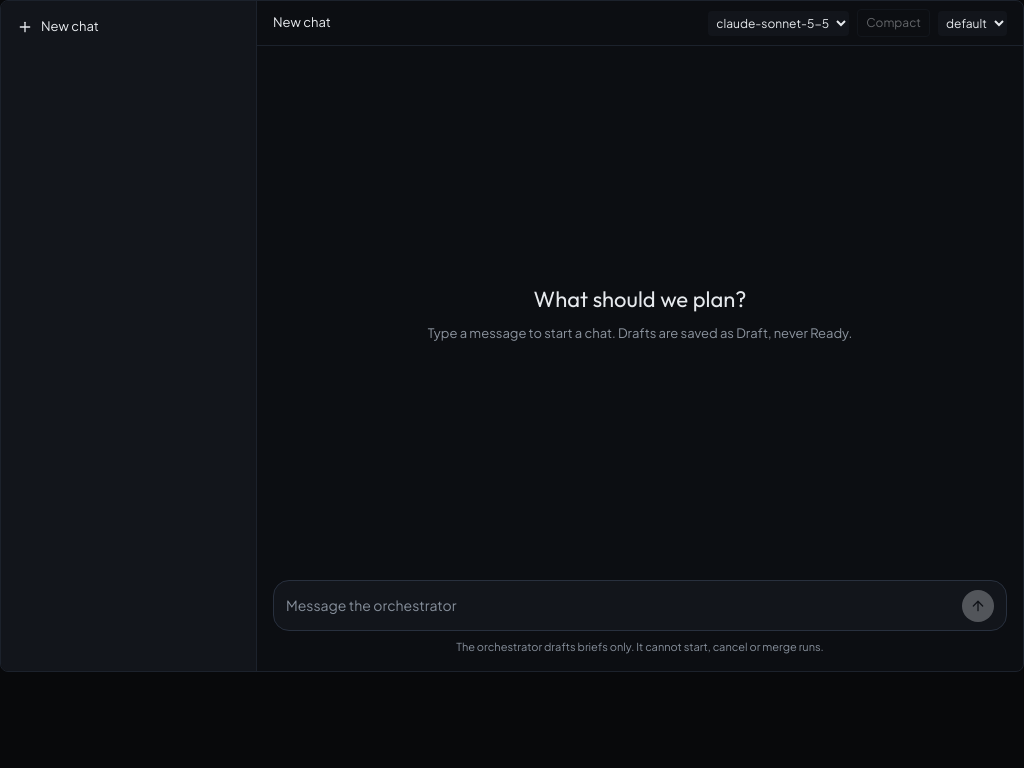
Test case: Comms chat › shows a failed send inline and keeps the human message in the transcript
The image size is (1024, 768).
Type "still there?" into the text box labelled "Message" at x=620, y=605, box [286,588,954,622]
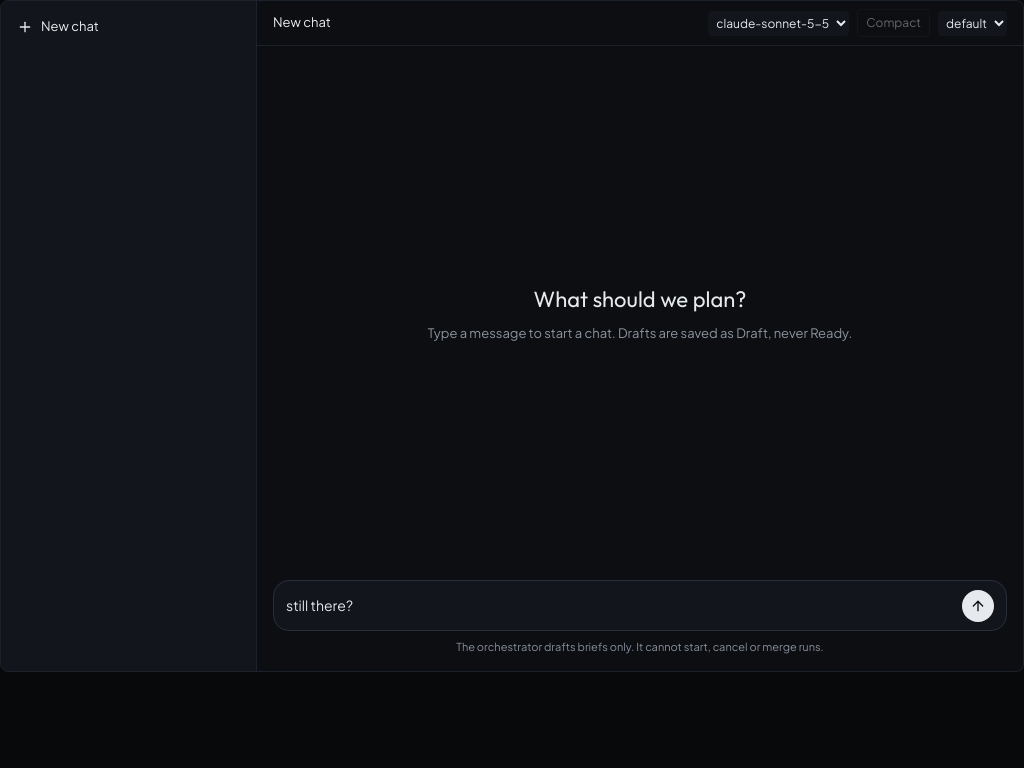
Click the button named "Send message" at x=978, y=606, box [962,590,994,622]
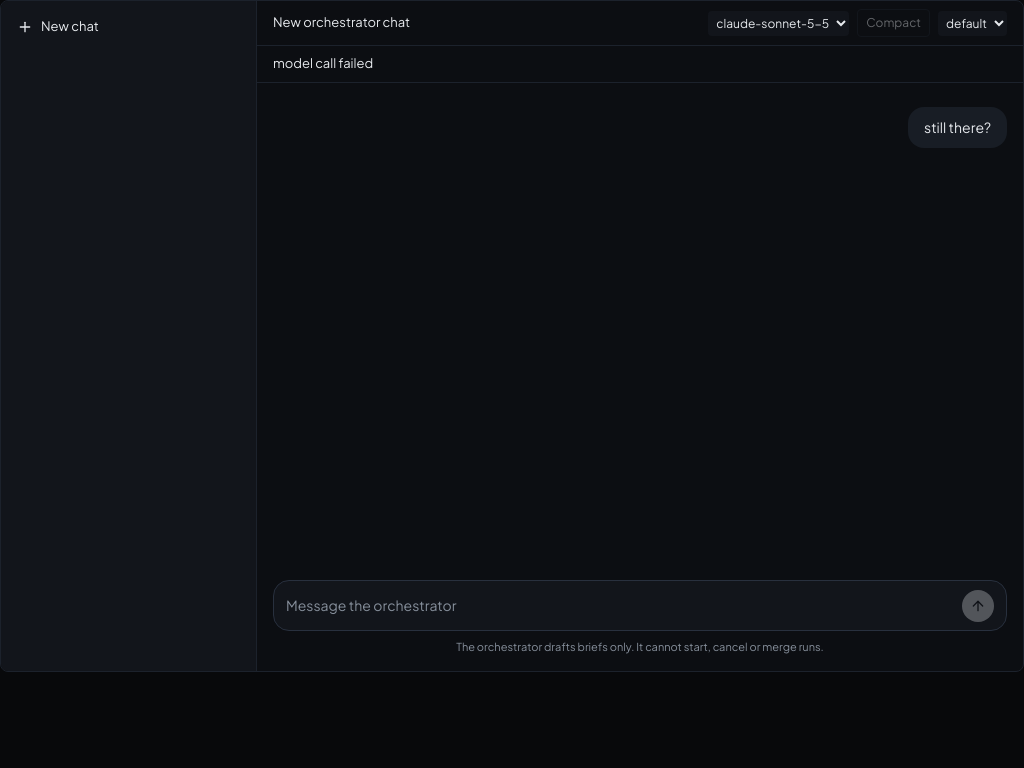
Expected: the message reads "model call failed", [273,55,373,71]
Expected: the text "still there?" is shown, [908,106,1007,148]
